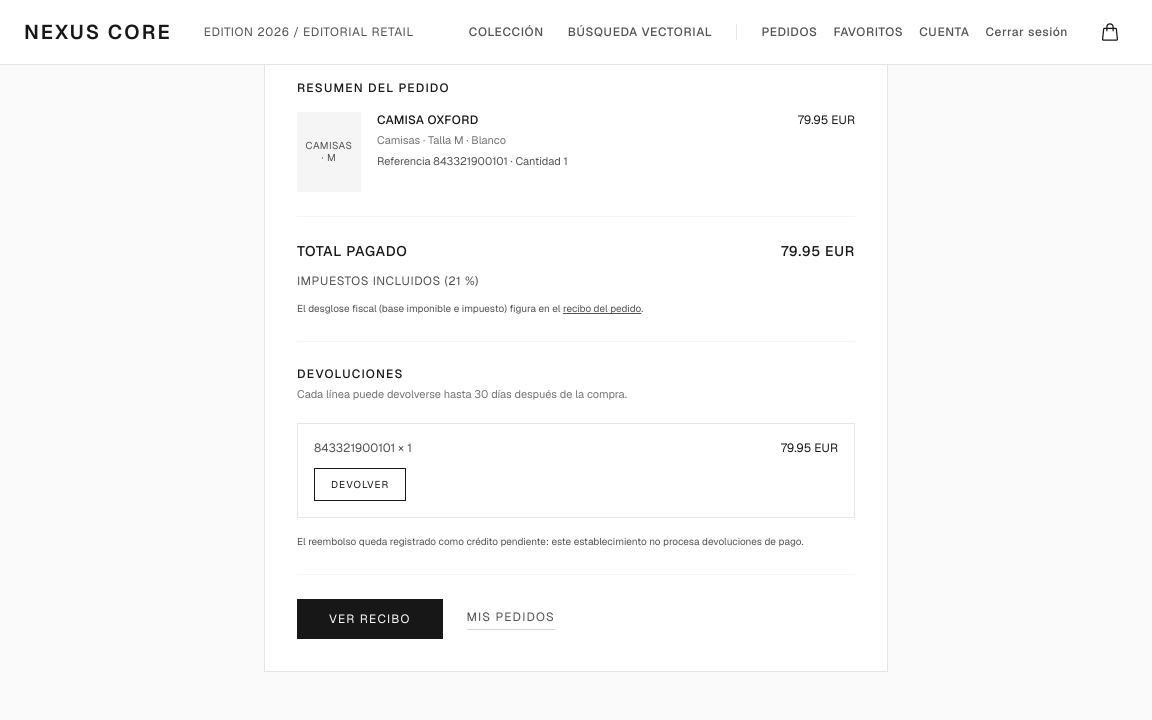
Scenario: OrderDetailPage Component › traduce el 409 con getFriendlyErrorMessage en lugar de pintar err.message crudo
The width and height of the screenshot is (1152, 720).
(page scrolled)
Click the button "Devolver". click: point(360, 484)
box: [314, 468, 406, 501]
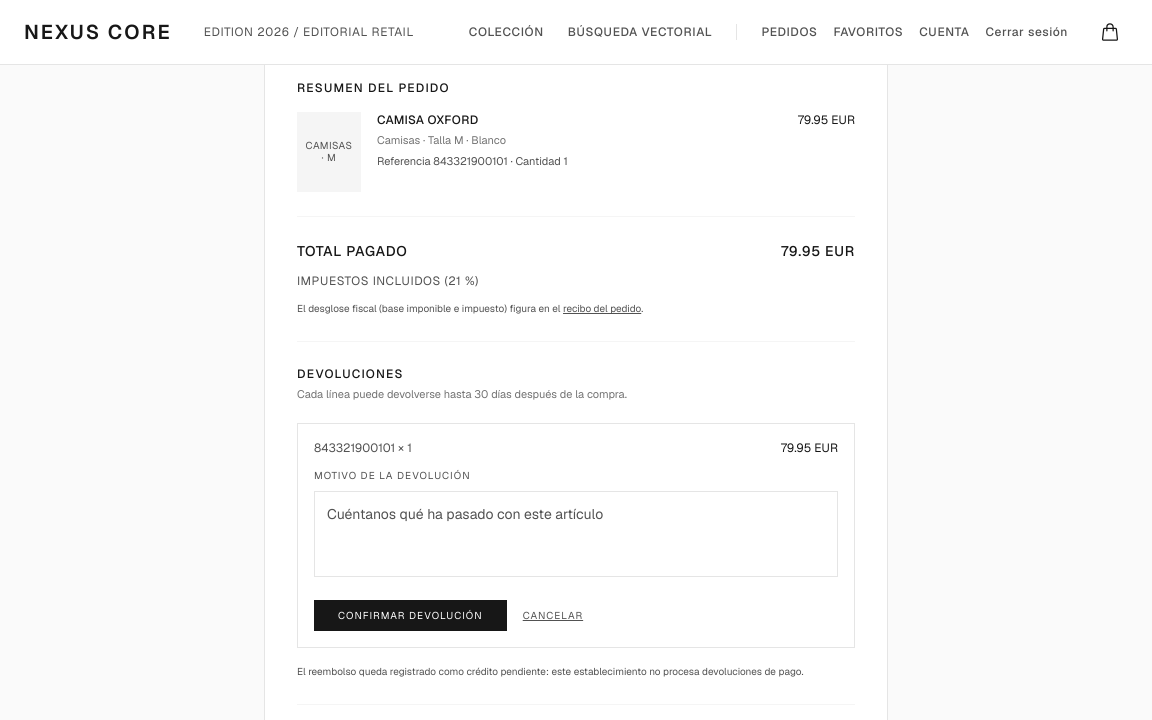
Type "Talla incorrecta" into the text box labelled "Motivo de la devolución". click: point(576, 534)
box: [314, 491, 838, 577]
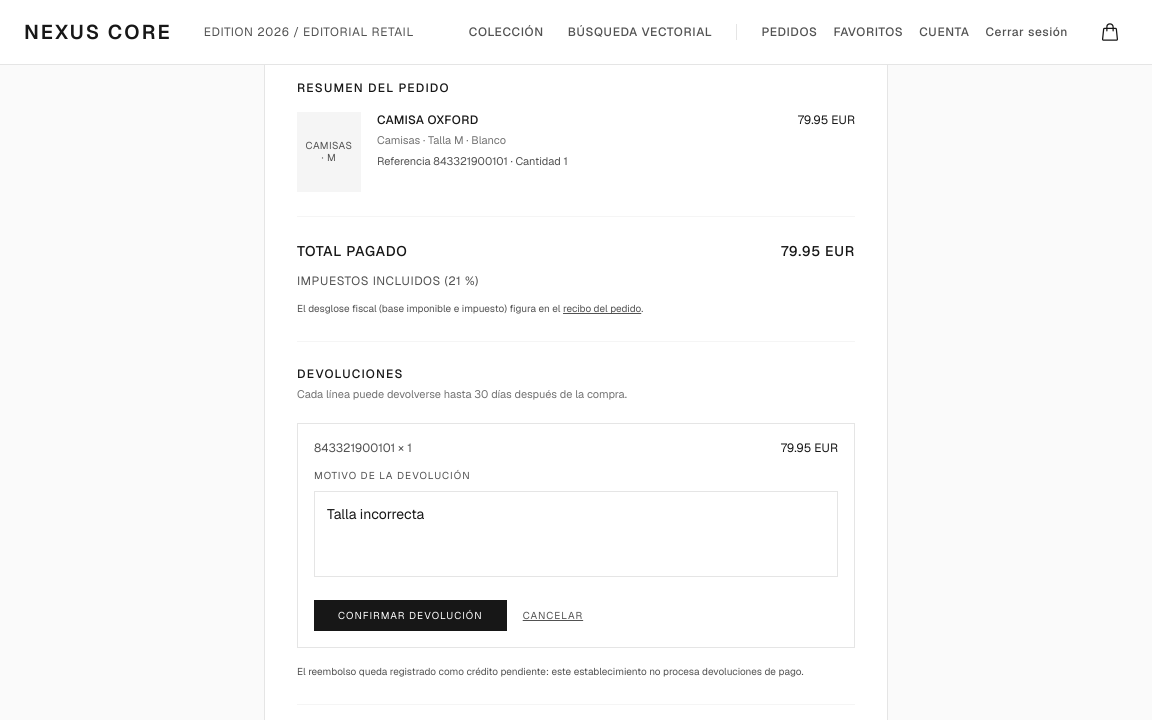
Click the button "Confirmar devolución". click: point(410, 615)
box: [314, 600, 507, 631]
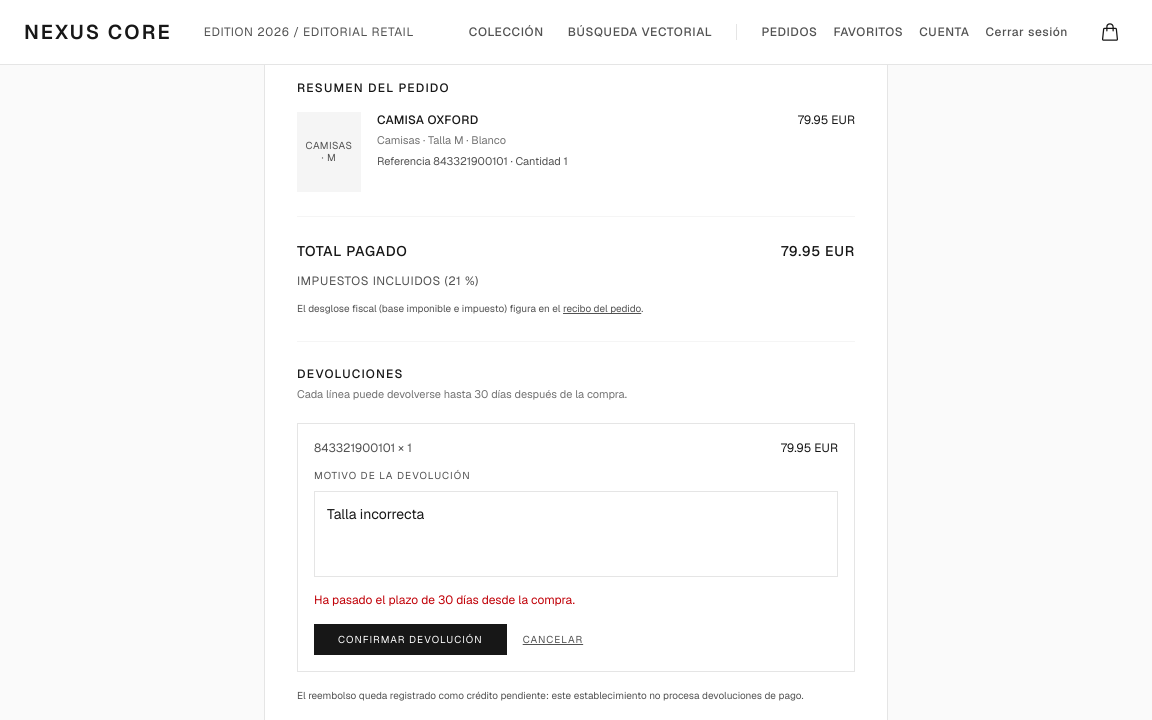
Now the text "Ha pasado el plazo de 30 días desde la compra." is shown, box [314, 592, 575, 608]
